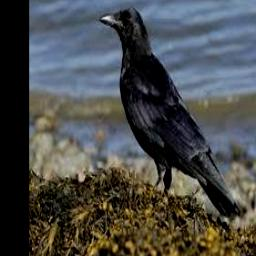Crow: (100, 7, 241, 219)
